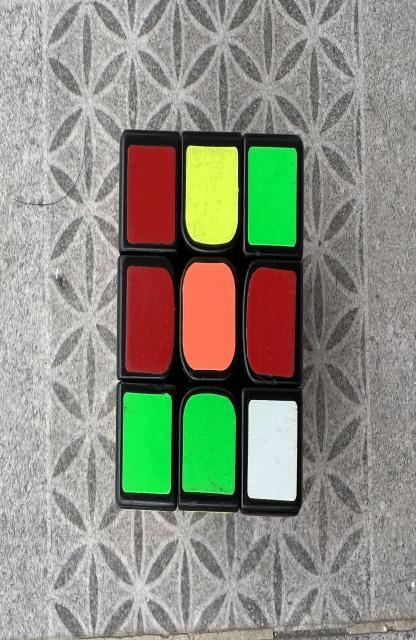Green: (182, 393, 236, 495), (123, 392, 172, 495), (248, 147, 297, 247)
Orange: (183, 262, 236, 370)
Red: (246, 267, 297, 377), (125, 265, 175, 375), (127, 145, 176, 243)
White: (247, 400, 297, 502)
Yellow: (185, 145, 239, 245)
